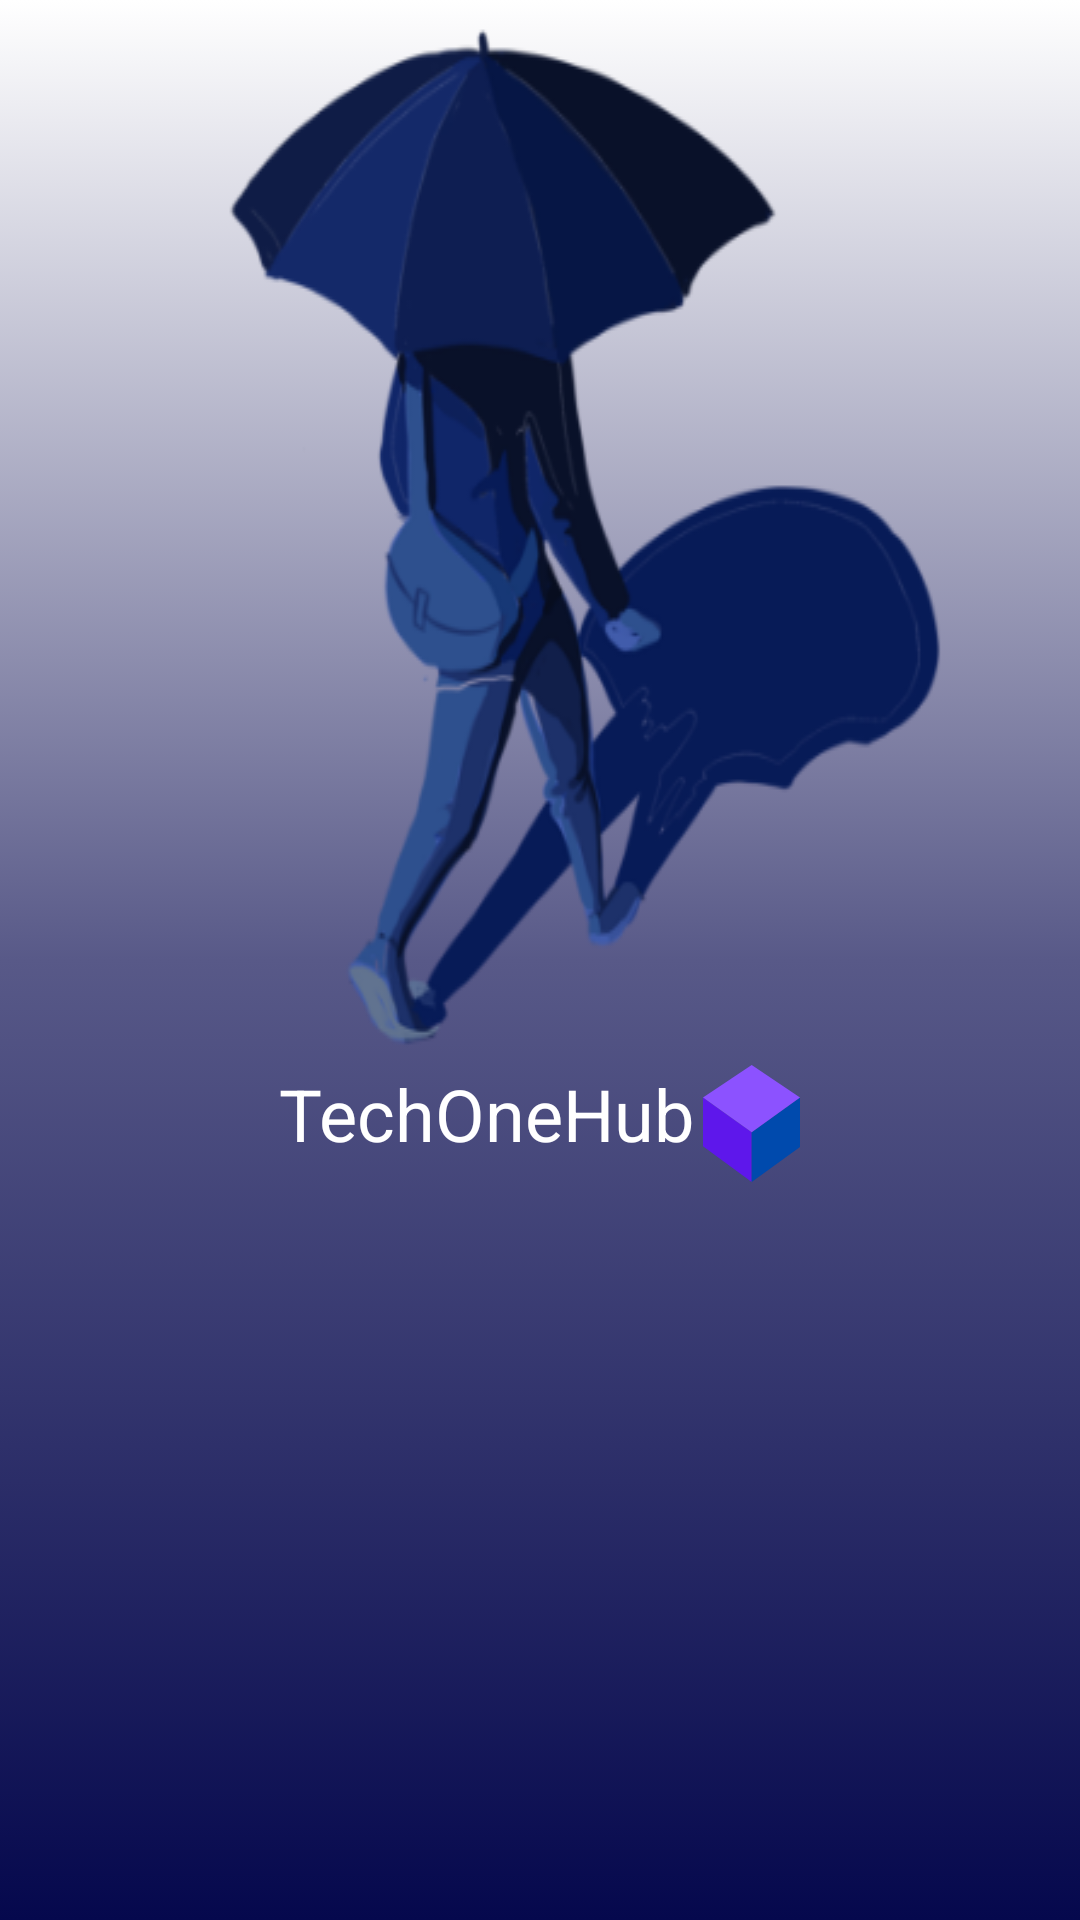

Icons on this 1080 x 1920 Android screen, each with the point to tap as (x=x, y=y):
cuboo: (x=751, y=1123)
